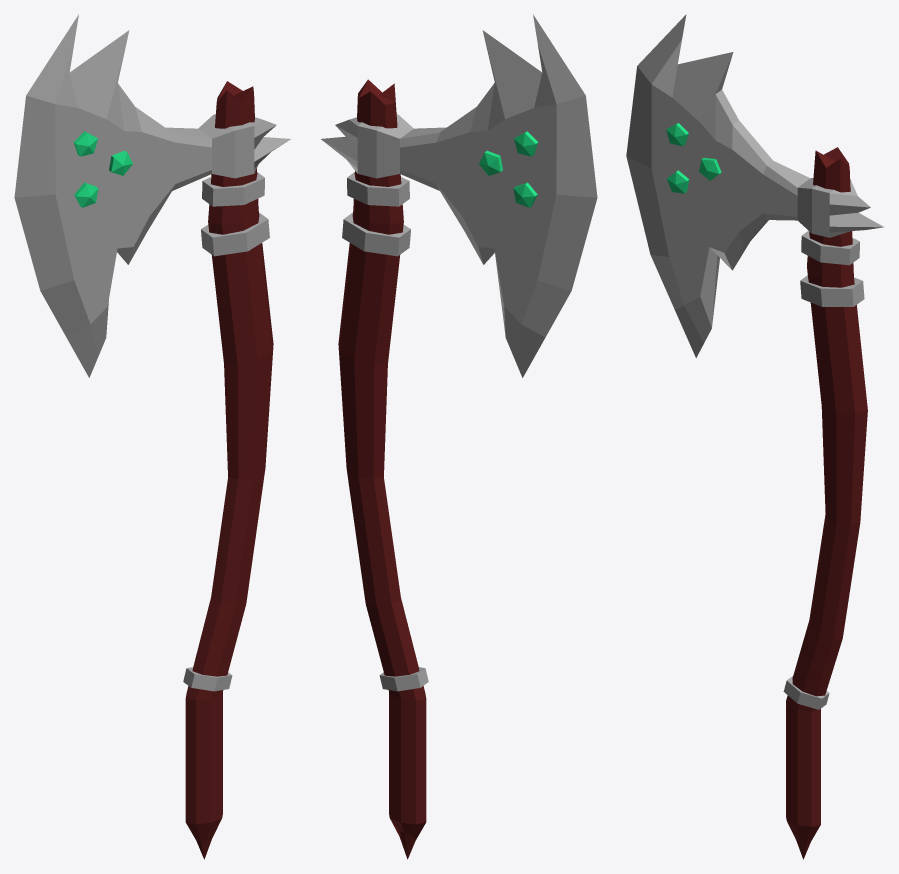
File: Axe1.fbx
3 renders of one model, left to right at view 1: azimuth 30°, elevation 25°; view 2: azimuth 150°, elevation 25°; view 3: azimuth 330°, elevation 25°, orthographic. The views are drawn at different scales.
Parts seen in each view (by area): view 1: Cube.002, Cylinder.001, Cylinder.005; view 2: Cube.002, Cylinder.001, Cylinder.005; view 3: Cube.002, Cylinder.001, Cylinder.005.
Part boxes in pixels (bbox=[...]): Cube.002: bbox=[14, 14, 290, 691]; Cylinder.001: bbox=[185, 81, 273, 859]; Cylinder.005: bbox=[73, 131, 132, 207]; Cube.002: bbox=[321, 14, 597, 691]; Cylinder.001: bbox=[338, 79, 426, 859]; Cylinder.005: bbox=[479, 131, 538, 207]; Cube.002: bbox=[626, 14, 884, 709]; Cylinder.001: bbox=[786, 147, 867, 859]; Cylinder.005: bbox=[666, 123, 721, 193].
Size of the model in its own units: 37.07 by 112 by 5.42.
